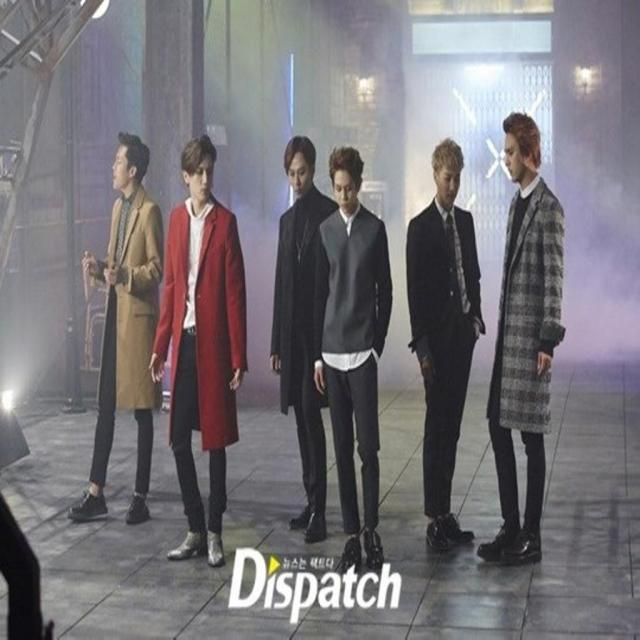nomask: (191, 152, 213, 200), (287, 154, 309, 198), (504, 132, 524, 180), (334, 170, 356, 212), (439, 165, 459, 206), (112, 144, 128, 189)
